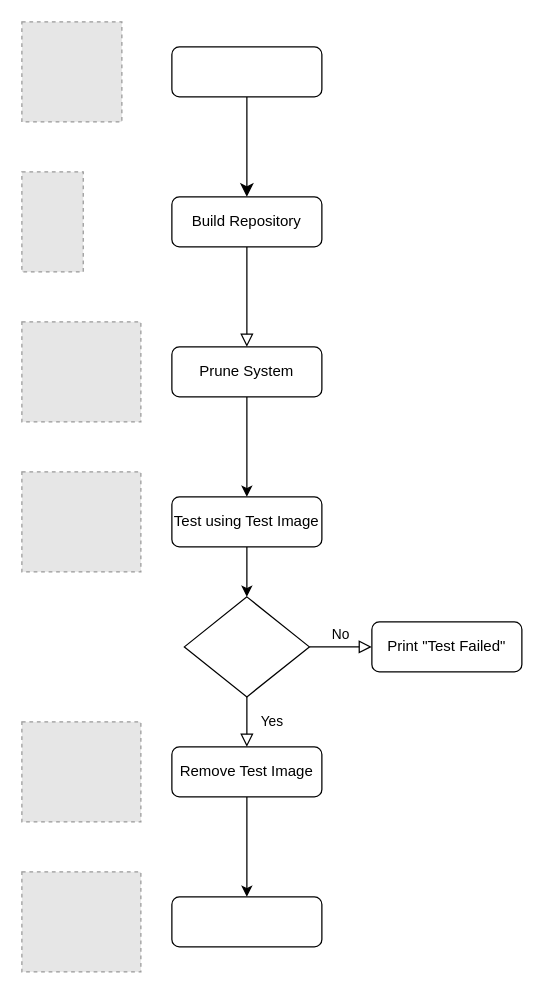
Some shapes in this 544 by 994 pixel diagram are drawn without their labels. Grey dashed boxes stand in for pictures. The box of each missing label's shape, as (x1, y1, x2, y2) in pixels:
Checkout Repository: (171, 46, 322, 97)
Deploy FastAPI App: (171, 896, 322, 947)
Test Succesful?: (183, 596, 309, 697)
